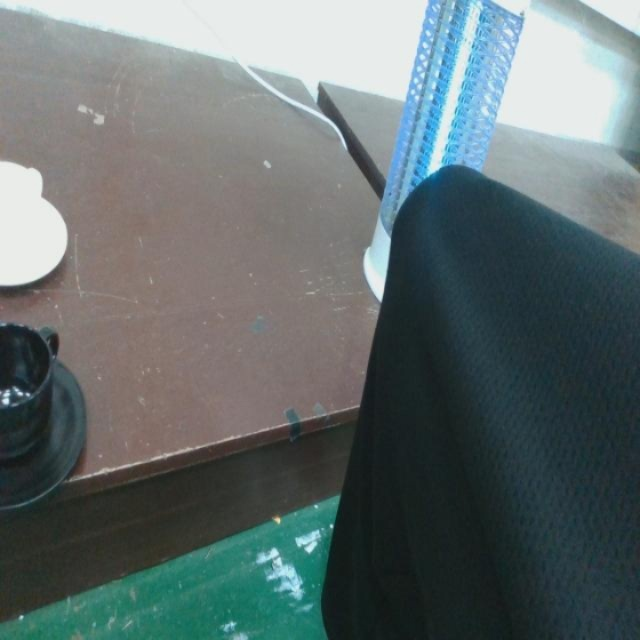black: (0, 316, 91, 517)
white: (0, 155, 71, 292)
